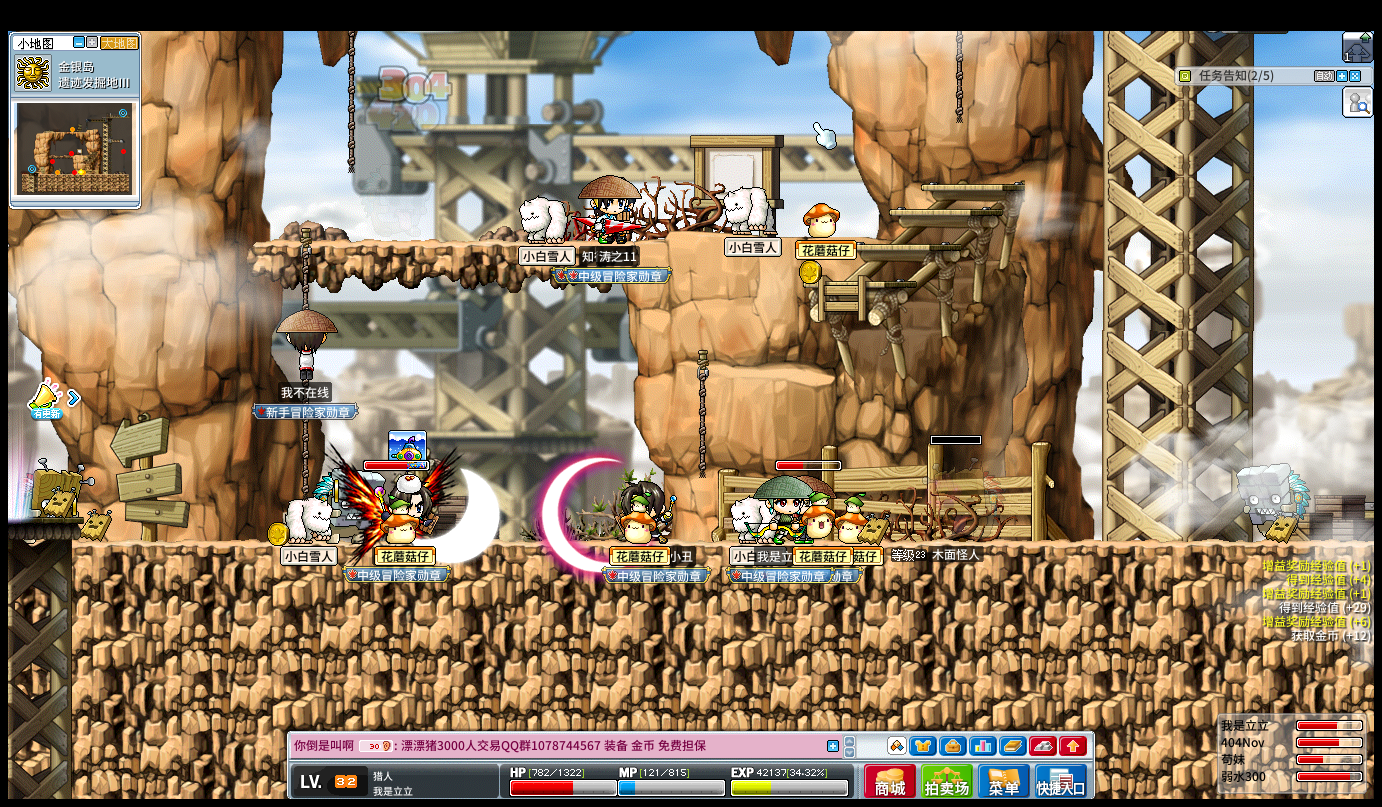floor: (252, 238, 635, 248), (727, 364, 836, 383), (801, 280, 908, 291), (799, 279, 914, 288), (845, 243, 956, 250), (885, 207, 996, 214), (920, 184, 1023, 191), (7, 516, 80, 524)
monster: (1238, 463, 1311, 541)
rope: (694, 349, 708, 482), (346, 29, 355, 173), (297, 224, 309, 308), (953, 30, 961, 122), (299, 419, 308, 497)
